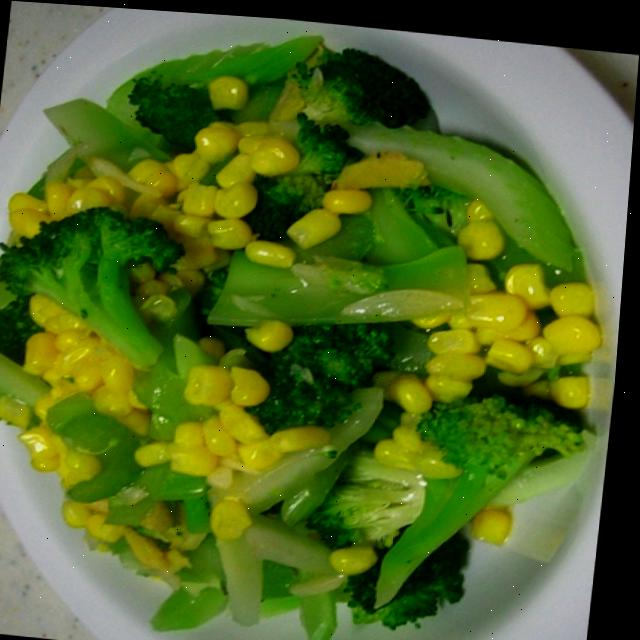蔬菜料理: (0, 7, 638, 640)
